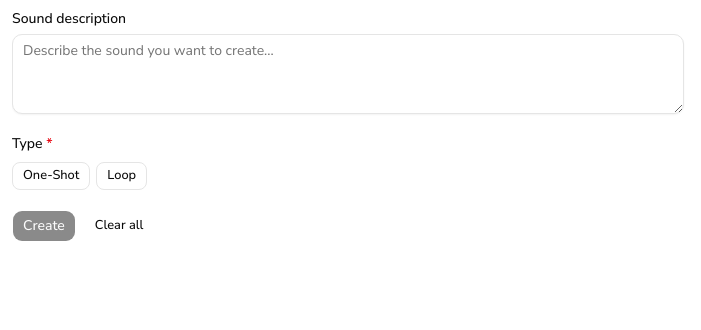
Test: SoundsCreationForm › shows BPM and key only for loops, not one-shots
Step 1. Click the button "One-Shot" → (51, 176), box [12, 162, 90, 190]
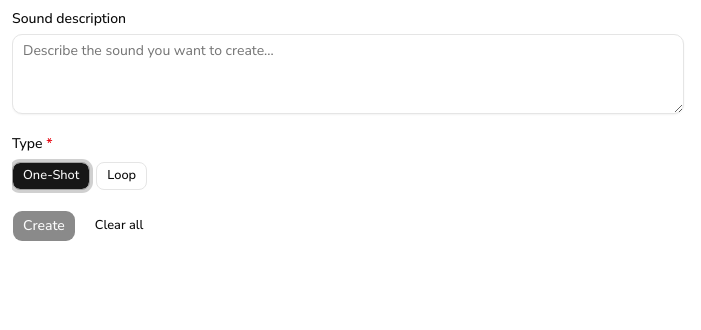
Expected: the field labelled "BPM" is not shown
Expected: the field labelled "Key" is not shown
Step 2. Click the button "Loop" → (122, 176), box [96, 162, 147, 190]
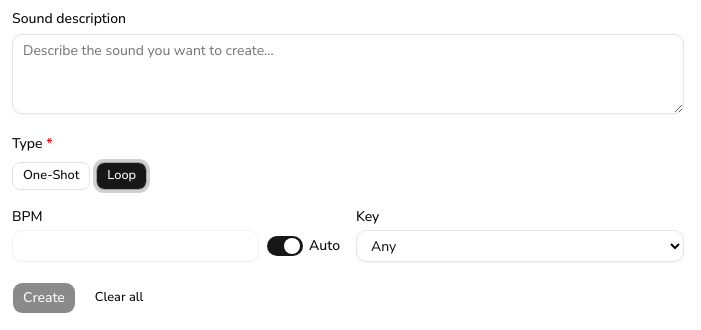
Expected: the dropdown labelled "Key" is shown, [356, 230, 684, 262]
